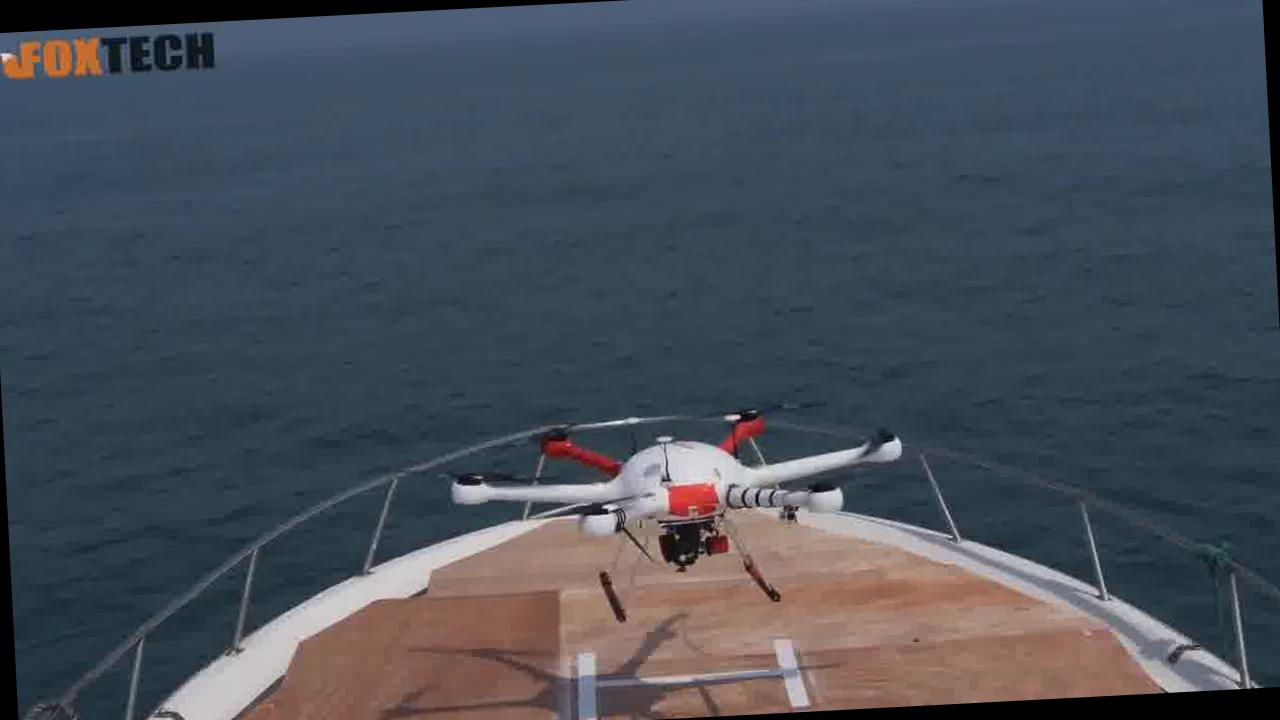drone: (464, 330, 912, 646)
